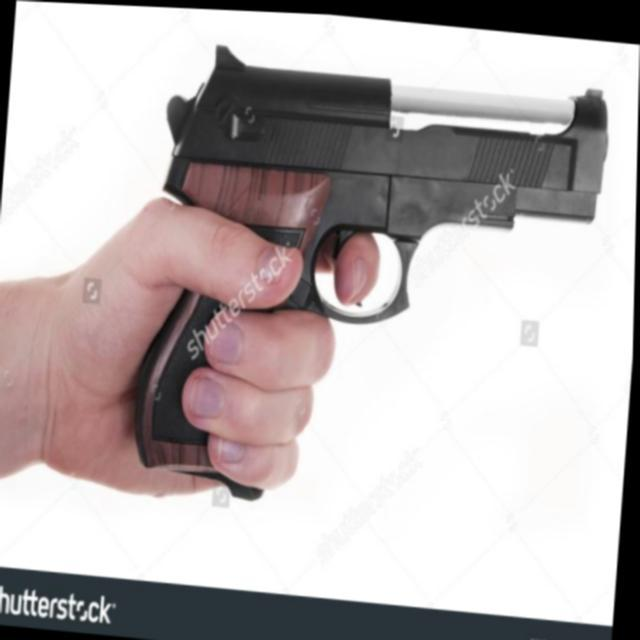weapon: (132, 34, 614, 526)
